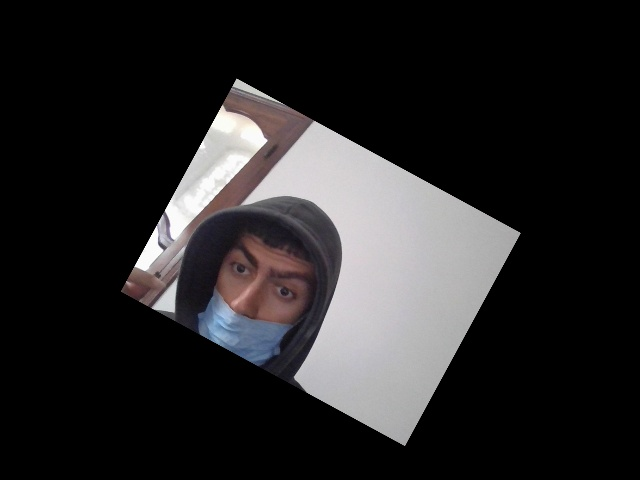mask_weared_incorrect: (192, 216, 316, 380)
